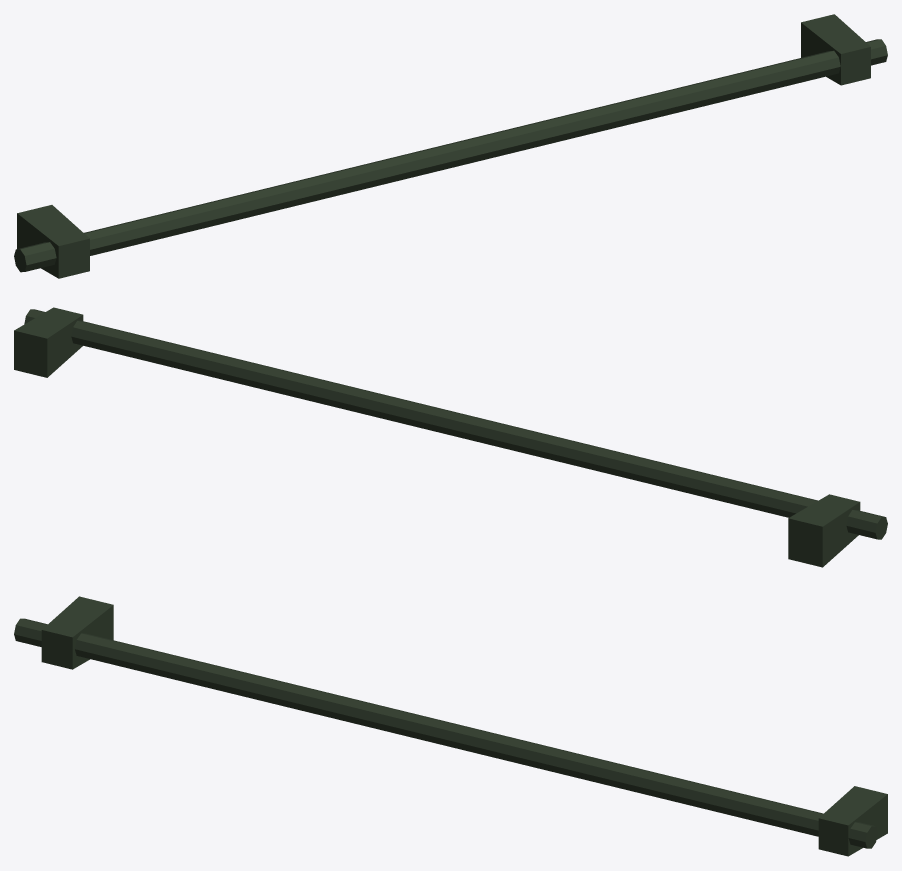
File: askı.fbx
The picture shows the model from 3 angles, top to bottom: view 1: azimuth 30°, elevation 25°; view 2: azimuth 150°, elevation 25°; view 3: azimuth 330°, elevation 25°; orthographic projection.
Visible parts, largest first — view 1: Cube.018; view 2: Cube.018; view 3: Cube.018.
Part boxes in pixels (<box>): Cube.018: <box>14,14,887,278</box>; Cube.018: <box>14,307,887,567</box>; Cube.018: <box>14,596,887,856</box>.
Size of the model in its own units: 1030 by 83.16 by 47.16.
